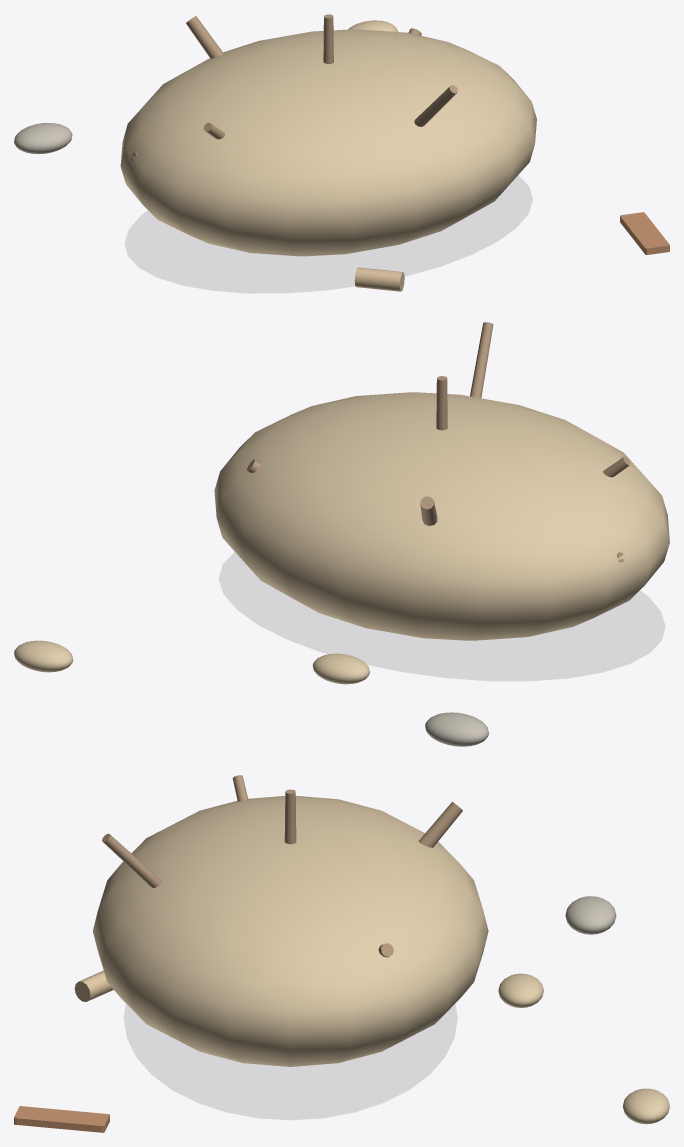
File: dry_bush.glb
The picture shows the model from 3 angles, top to bottom: view 1: azimuth 30°, elevation 25°; view 2: azimuth 150°, elevation 25°; view 3: azimuth 270°, elevation 25°; orthographic projection. The views are drawn at different scales.
Parts seen in each view (by area): view 1: dusty_root_ball, painted_contact_shadow, dry_bush, ground_pebble_detail_2, loose_scrap_flake_0, discarded_bolt_detail_4; view 2: dusty_root_ball, painted_contact_shadow, dry_bush, ground_pebble_detail_2, ground_pebble_detail_3, ground_pebble_detail_1; view 3: dusty_root_ball, painted_contact_shadow, dry_bush, loose_scrap_flake_0, ground_pebble_detail_2, ground_pebble_detail_3, ground_pebble_detail_1, discarded_bolt_detail_4.
Part boxes in pixels (<box>): dusty_root_ball: <box>120,29,536,256</box>; painted_contact_shadow: <box>125,176,532,292</box>; dry_bush: <box>131,14,457,161</box>; ground_pebble_detail_2: <box>14,123,72,154</box>; loose_scrap_flake_0: <box>620,212,669,254</box>; discarded_bolt_detail_4: <box>354,267,404,291</box>; dusty_root_ball: <box>214,392,669,640</box>; painted_contact_shadow: <box>219,553,664,680</box>; dry_bush: <box>246,322,630,562</box>; ground_pebble_detail_2: <box>425,712,488,746</box>; ground_pebble_detail_3: <box>14,640,73,672</box>; ground_pebble_detail_1: <box>312,653,369,684</box>; dusty_root_ball: <box>93,796,488,1066</box>; painted_contact_shadow: <box>124,1005,456,1119</box>; dry_bush: <box>102,775,462,1030</box>; loose_scrap_flake_0: <box>14,1106,109,1132</box>; ground_pebble_detail_2: <box>565,896,616,934</box>; ground_pebble_detail_3: <box>622,1088,669,1124</box>; ground_pebble_detail_1: <box>498,973,543,1007</box>; discarded_bolt_detail_4: <box>74,970,113,1001</box>.
Bounding box in the file's own units: 1.22 × 0.575 × 1.49.
